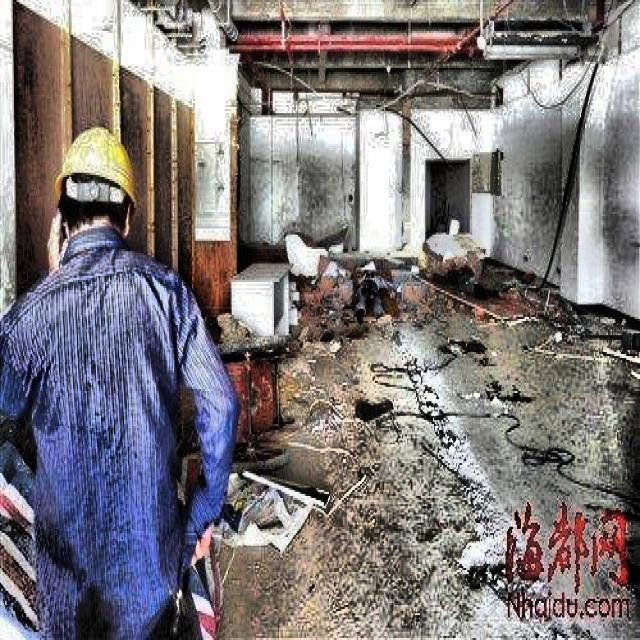helmet: (55, 120, 145, 264)
